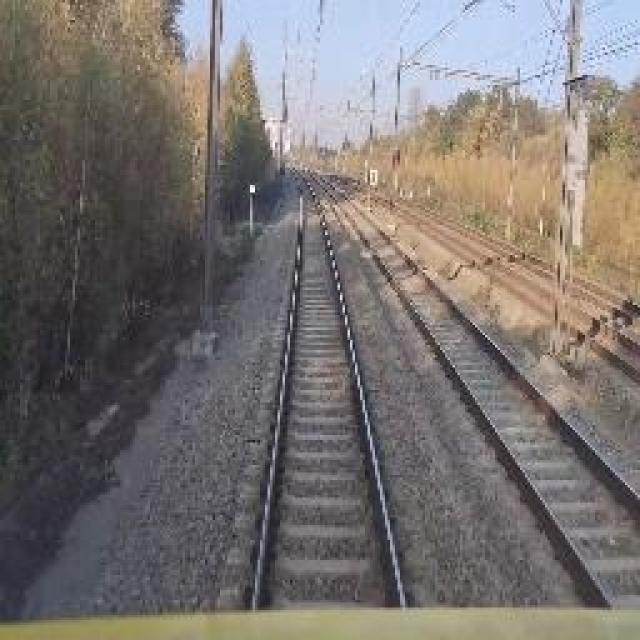rail: (301, 162, 640, 607), (216, 159, 430, 607)
